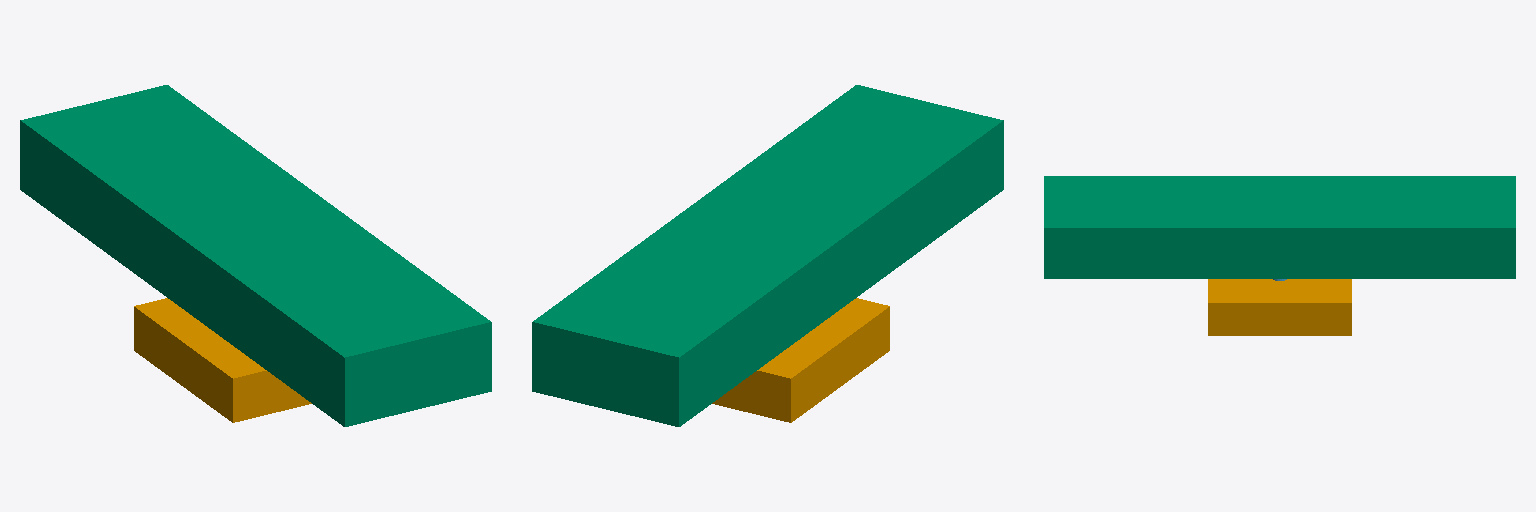
robot.urdf — kinect:
<?xml version="1.0" ?>
<!-- =================================================================================== -->
<!-- |    This document was autogenerated by xacro from kinect_box.urdf.xacro          | -->
<!-- |    EDITING THIS FILE BY HAND IS NOT RECOMMENDED                                 | -->
<!-- =================================================================================== -->
<robot name="kinect" xmlns:xacro="http://ros.org/wiki/xacro">
  <!-- define the link -->
  <link name="camera_base_link">
    <visual>
      <origin rpy="0 0 0" xyz="0 0.0 0.0"/>
      <geometry>
        <box size="0.072 0.085 0.021"/>
      </geometry>
      <material name="Black"/>
    </visual>
    <collision>
      <origin rpy="0 0 0" xyz="0 0 0"/>
      <geometry>
        <box size="0.072 0.085 0.021"/>
      </geometry>
    </collision>
  </link>
  <link name="camera_base_post_link">
    <visual>
      <origin rpy="0 0 0" xyz="0 0 0"/>
      <geometry>
        <cylinder length="0.016" radius="0.005"/>
      </geometry>
      <material name="Black"/>
    </visual>
    <collision>
      <origin rpy="0 0 0" xyz="0 0 0"/>
      <geometry>
        <cylinder length="0.016" radius="0.005"/>
      </geometry>
    </collision>
  </link>
  <link name="camera_link">
    <visual>
      <origin rpy="0 0 0" xyz="0 0 0"/>
      <geometry>
        <box size="0.07271 0.27794 0.033"/>
      </geometry>
      <material name="Black"/>
    </visual>
    <collision>
      <origin rpy="0 0 0" xyz="0 0 0"/>
      <geometry>
        <box size="0.07271 0.27794 0.033"/>
      </geometry>
    </collision>
  </link>
  <link name="camera_depth_frame">
    <inertial>
      <mass value="0.000001"/>
      <origin xyz="0 0 0"/>
      <inertia ixx="0.0001" ixy="0.0" ixz="0.0" iyy="0.0001" iyz="0.0" izz="0.0001"/>
    </inertial>
  </link>
  <link name="camera_depth_optical_frame">
    <inertial>
      <mass value="0.000001"/>
      <origin xyz="0 0 0"/>
      <inertia ixx="0.0001" ixy="0.0" ixz="0.0" iyy="0.0001" iyz="0.0" izz="0.0001"/>
    </inertial>
  </link>
  <link name="camera_rgb_frame">
    <inertial>
      <mass value="0.000001"/>
      <origin xyz="0 0 0"/>
      <inertia ixx="0.0001" ixy="0.0" ixz="0.0" iyy="0.0001" iyz="0.0" izz="0.0001"/>
    </inertial>
  </link>
  <link name="camera_rgb_optical_frame">
    <inertial>
      <mass value="0.000001"/>
      <origin xyz="0 0 0"/>
      <inertia ixx="0.0001" ixy="0.0" ixz="0.0" iyy="0.0001" iyz="0.0" izz="0.0001"/>
    </inertial>
  </link>
  <!--  
  <joint name="root_camera_joint" type="fixed">
    <parent link="root"/>
    <child link="${name}_base_link"/>
  </joint>   -->
  <!-- define the joint -->
  <joint name="camera_base_post_joint" type="fixed">
    <origin rpy="0 0 0" xyz="0 0 0.0185"/>
    <parent link="camera_base_link"/>
    <child link="camera_base_post_link"/>
  </joint>
  <joint name="camera_base_joint" type="fixed">
    <origin rpy="0 0 0" xyz="0 0 0.0245"/>
    <parent link="camera_base_post_link"/>
    <child link="camera_link"/>
  </joint>
  <joint name="camera_depth_joint" type="fixed">
    <origin rpy="0 0 0" xyz="0 0.0125 0"/>
    <parent link="camera_link"/>
    <child link="camera_depth_frame"/>
  </joint>
  <joint name="camera_depth_optical_joint" type="fixed">
    <origin rpy="-1.570796325 0 -1.570796325" xyz="0 0 0"/>
    <parent link="camera_depth_frame"/>
    <child link="camera_depth_optical_frame"/>
  </joint>
  <joint name="camera_rgb_joint" type="fixed">
    <origin rpy="0 0 0" xyz="0 -0.0125 0"/>
    <parent link="camera_link"/>
    <child link="camera_rgb_frame"/>
  </joint>
  <joint name="camera_rgb_optical_joint" type="fixed">
    <origin rpy="-1.570796325 0 -1.570796325" xyz="0 0 0"/>
    <parent link="camera_rgb_frame"/>
    <child link="camera_rgb_optical_frame"/>
  </joint>
</robot>

--- Facts derived from the render (not from the file) ---
3 views of the same robot in one strip: view 1: azimuth 30°, elevation 25°; view 2: azimuth 150°, elevation 25°; view 3: azimuth 270°, elevation 25° (orthographic).
Model kinect with 7 links and 6 joints (6 fixed), rooted at camera_base_link, posed every joint at zero.
Links seen in each view (by area): view 1: camera_link, camera_base_link; view 2: camera_link, camera_base_link; view 3: camera_link, camera_base_link.
Link boxes in pixels (x1,y1,x2,y2): camera_link: (20, 85, 491, 426); camera_base_link: (134, 298, 311, 422); camera_link: (532, 85, 1003, 426); camera_base_link: (712, 298, 889, 422); camera_link: (1044, 176, 1515, 278); camera_base_link: (1208, 279, 1351, 335).
Bounding box of the posed robot: 0.0727 × 0.2779 × 0.07 m (x, y, z).
Geometry: primitives only (box / cylinder / sphere), no mesh files.